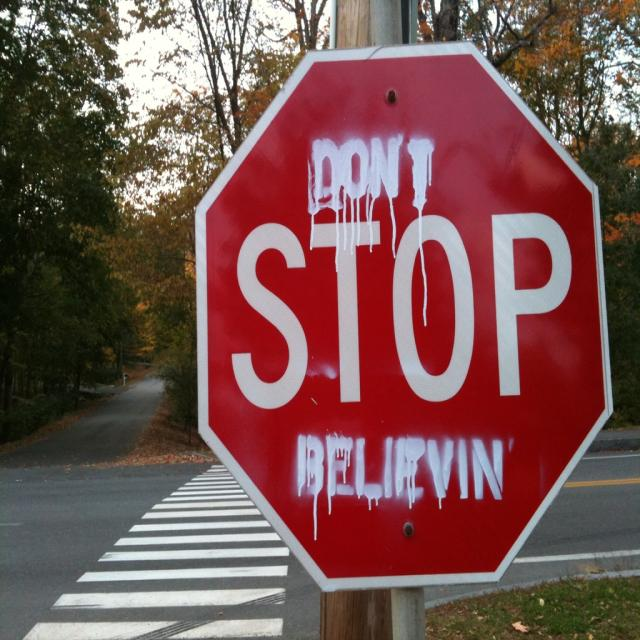Stop-sign: (196, 37, 616, 584)
